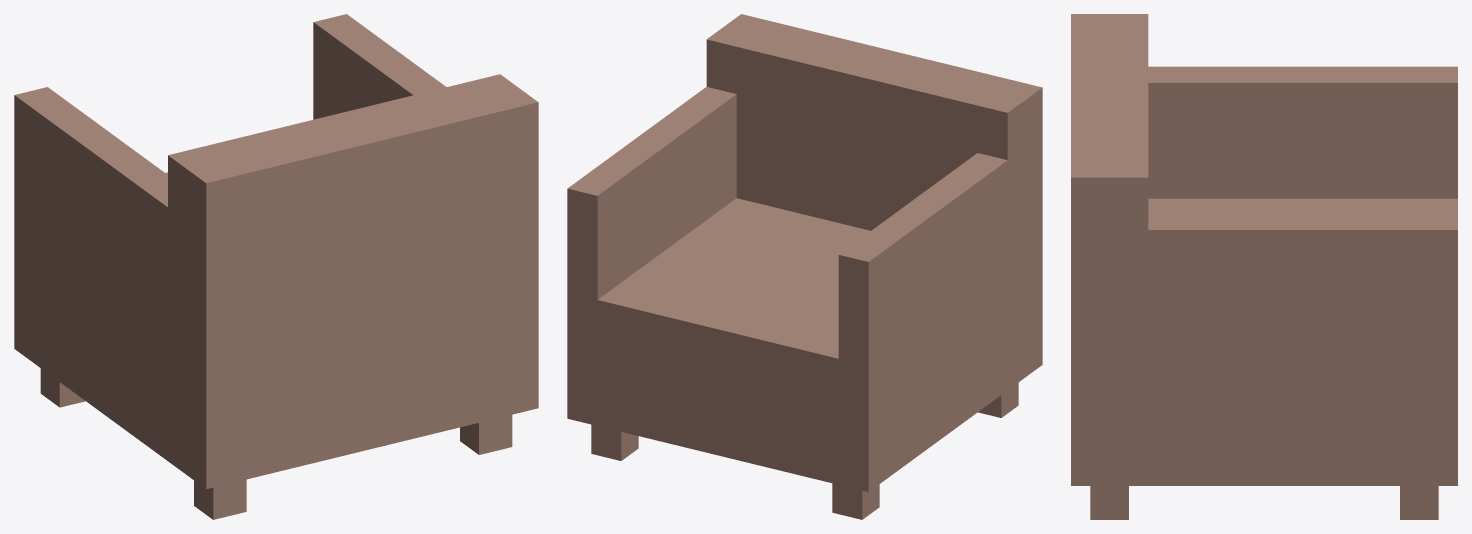
The model's file is sofa.glb.
3 views of the same model, side by side, from view 1: azimuth 30°, elevation 25°; view 2: azimuth 150°, elevation 25°; view 3: azimuth 270°, elevation 25° (orthographic). The views are drawn at different scales.
Bounding box in the file's own units: 1 × 1 × 1.
